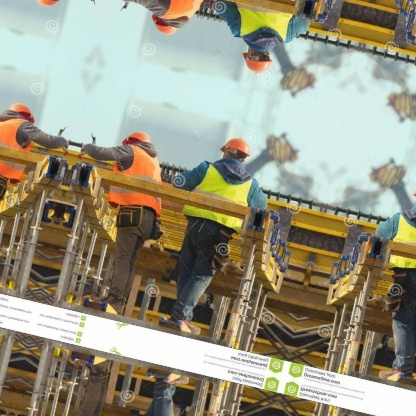vest: (178, 156, 263, 235), (100, 138, 179, 222)
